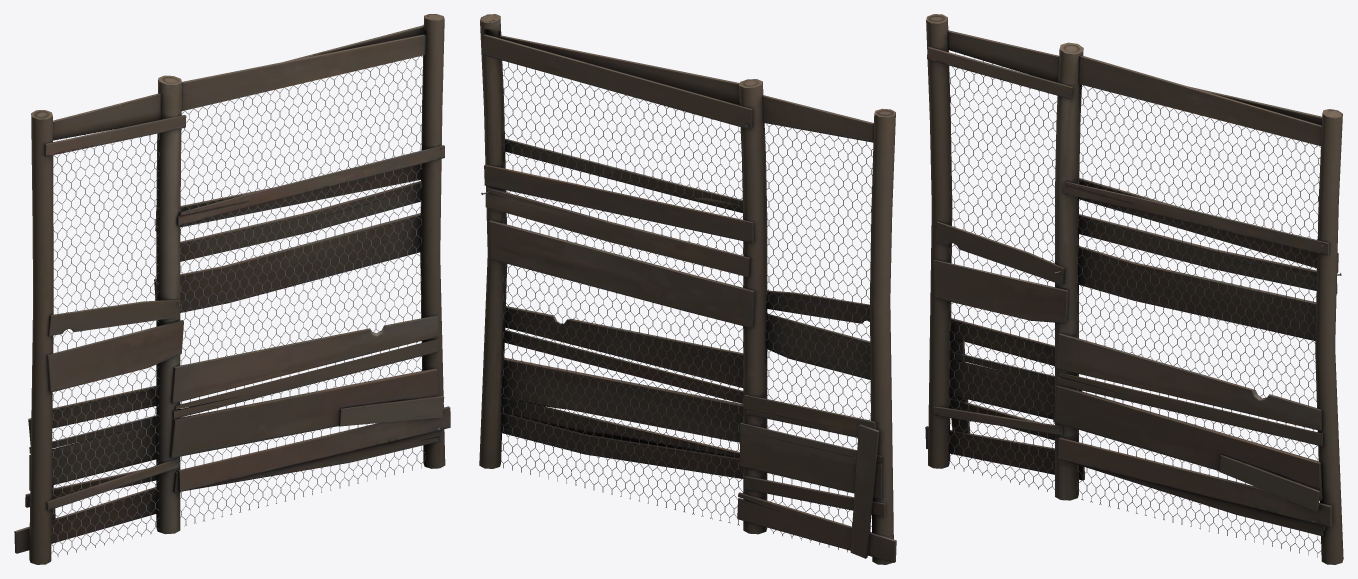
The picture shows the model from 3 angles, left to right: view 1: azimuth 30°, elevation 25°; view 2: azimuth 150°, elevation 25°; view 3: azimuth 330°, elevation 25°; orthographic projection.
Visible parts, largest first — view 1: body0_model0_lod0_mesh0, body0_model0_lod0_mesh1; view 2: body0_model0_lod0_mesh0, body0_model0_lod0_mesh1; view 3: body0_model0_lod0_mesh0, body0_model0_lod0_mesh1.
Part boxes in pixels (x1,y1,x2,y2): body0_model0_lod0_mesh0: [14, 14, 450, 564]; body0_model0_lod0_mesh1: [51, 56, 425, 556]; body0_model0_lod0_mesh0: [479, 14, 896, 564]; body0_model0_lod0_mesh1: [499, 62, 872, 552]; body0_model0_lod0_mesh0: [925, 14, 1343, 564]; body0_model0_lod0_mesh1: [947, 52, 1321, 557].
Size of the model in its own units: 265 by 268 by 24.88.
2 materials, 2 textured.
